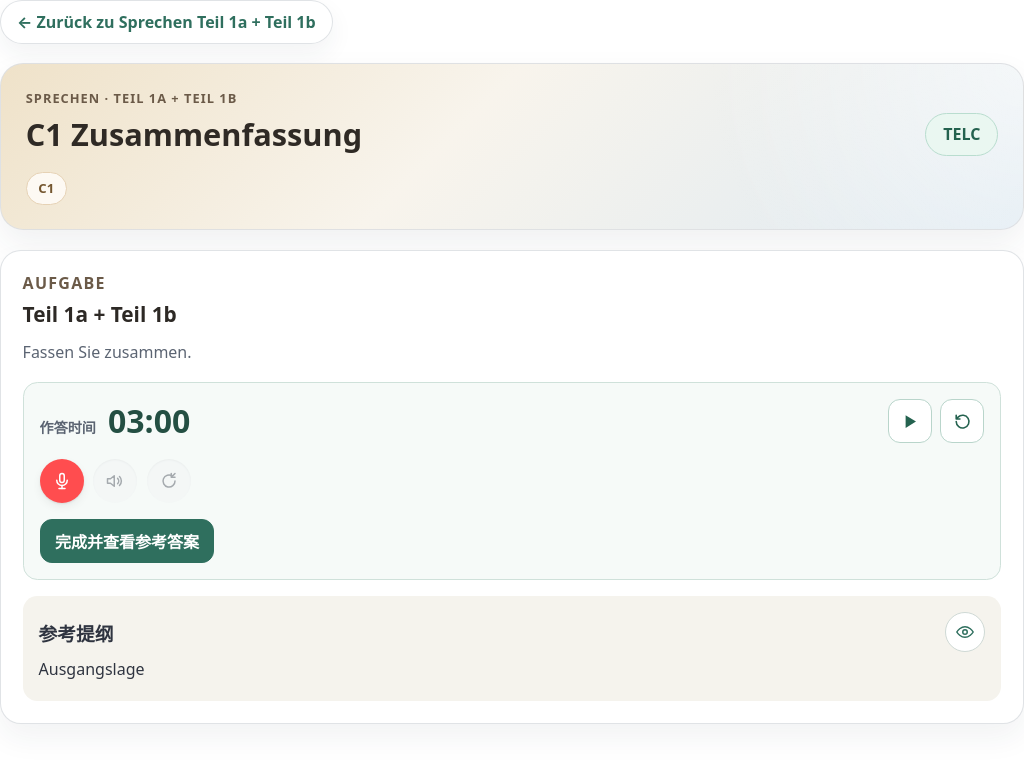
Test case: SpeakingTeilExercisePage text annotations › starts the C1 Teil 1B timer at three minutes
The image size is (1024, 768).
Check: the text "03:00" is shown, box [108,405,190,437]
Click the button named "开始计时": (910, 421) [888,399,932,443]
Wait 1000 ms
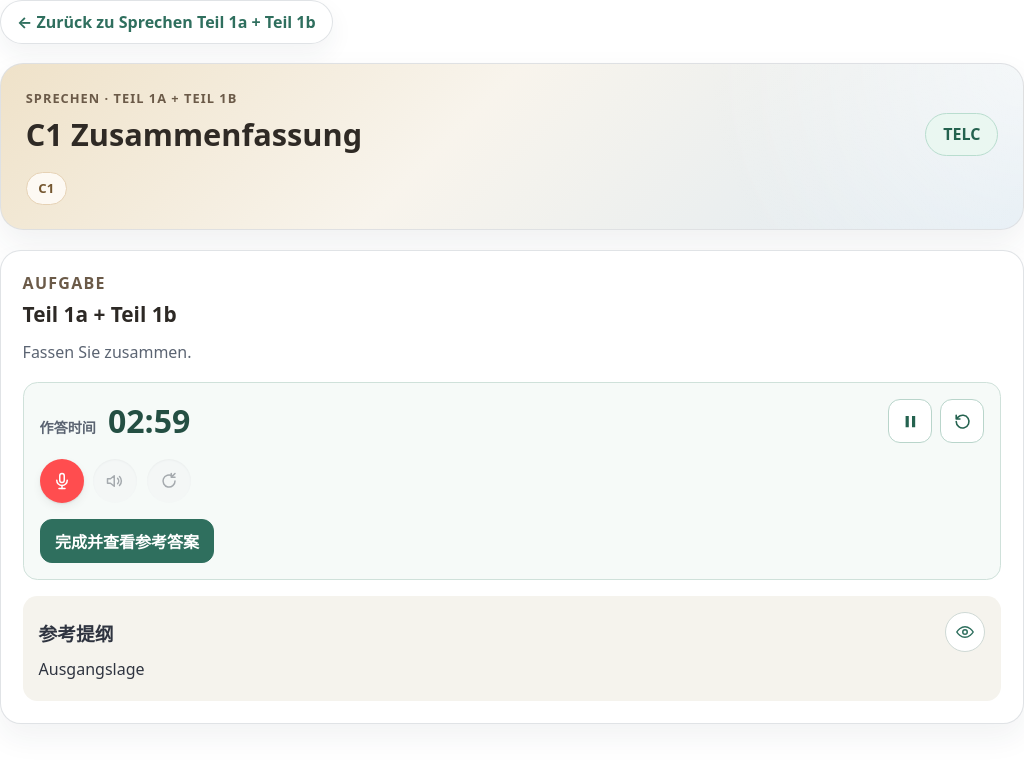
Check: the text "02:59" is shown, box [108,405,190,437]
